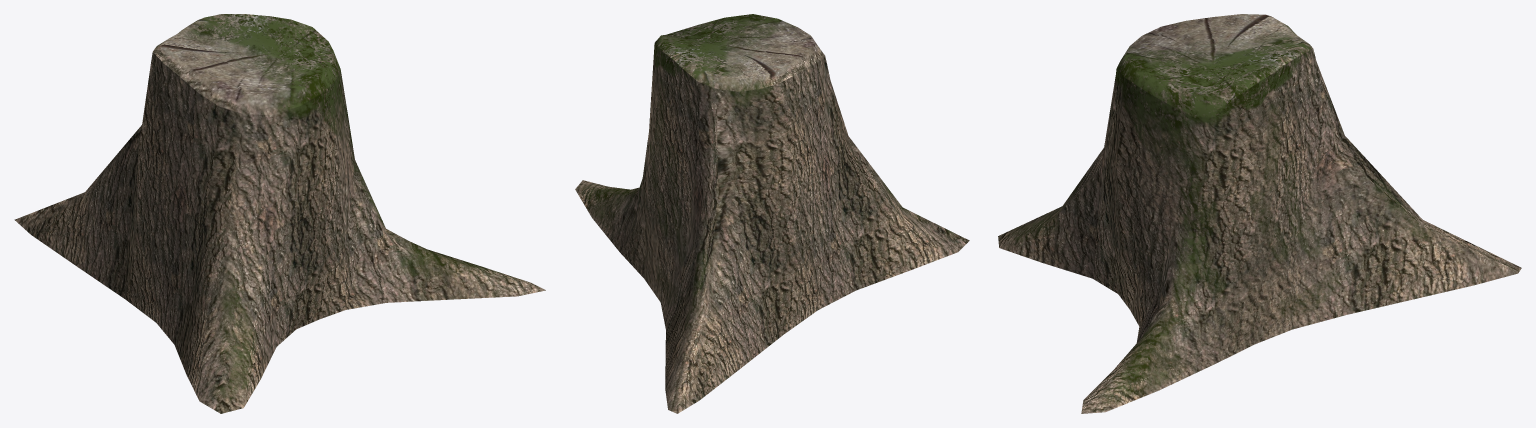
The model's file is tree01.fbx.
3 views of the same model, side by side, from view 1: azimuth 30°, elevation 25°; view 2: azimuth 150°, elevation 25°; view 3: azimuth 270°, elevation 25° (orthographic). The views are drawn at different scales.
Visible parts, largest first — view 1: polySurface5; view 2: polySurface5; view 3: polySurface5.
Boxes of the visible parts, x1,y1,x2,y2 form: polySurface5: (14, 14, 545, 413); polySurface5: (575, 14, 969, 413); polySurface5: (998, 14, 1521, 413).
Size of the model in its own units: 451 by 306 by 541.
